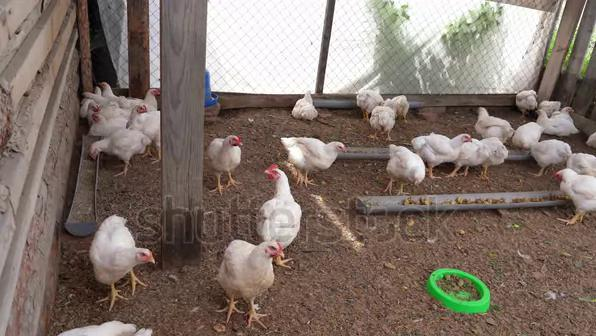Pollos: (90, 212, 154, 285), (219, 236, 282, 300), (280, 135, 346, 173), (262, 165, 296, 235), (386, 142, 426, 190), (87, 133, 152, 162), (422, 128, 472, 163), (556, 167, 596, 208), (523, 137, 573, 166), (474, 106, 515, 138), (206, 135, 244, 168), (127, 101, 167, 132), (534, 107, 581, 133), (371, 102, 402, 134), (290, 90, 320, 119), (91, 113, 129, 132)
